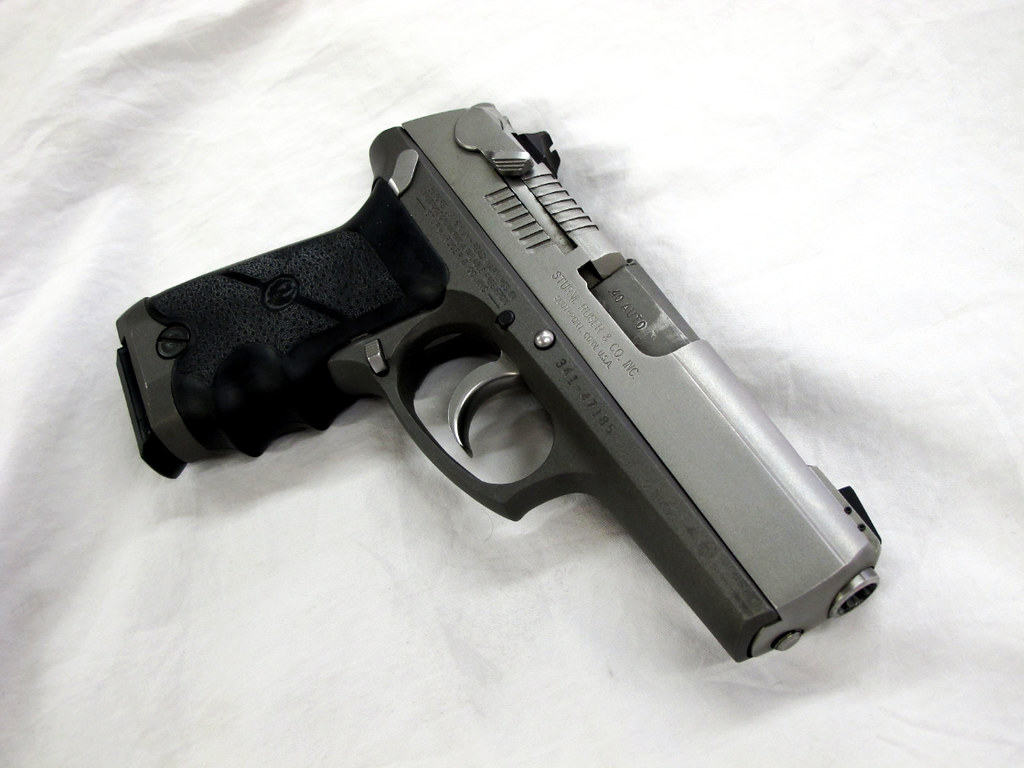gun: (107, 87, 925, 686)
